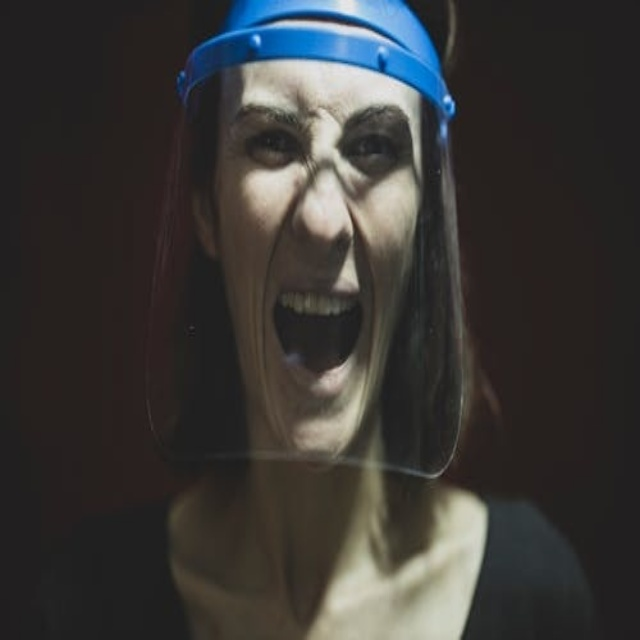Sin_gafas: (221, 79, 421, 183)
Sin_mascara: (262, 271, 379, 427)
